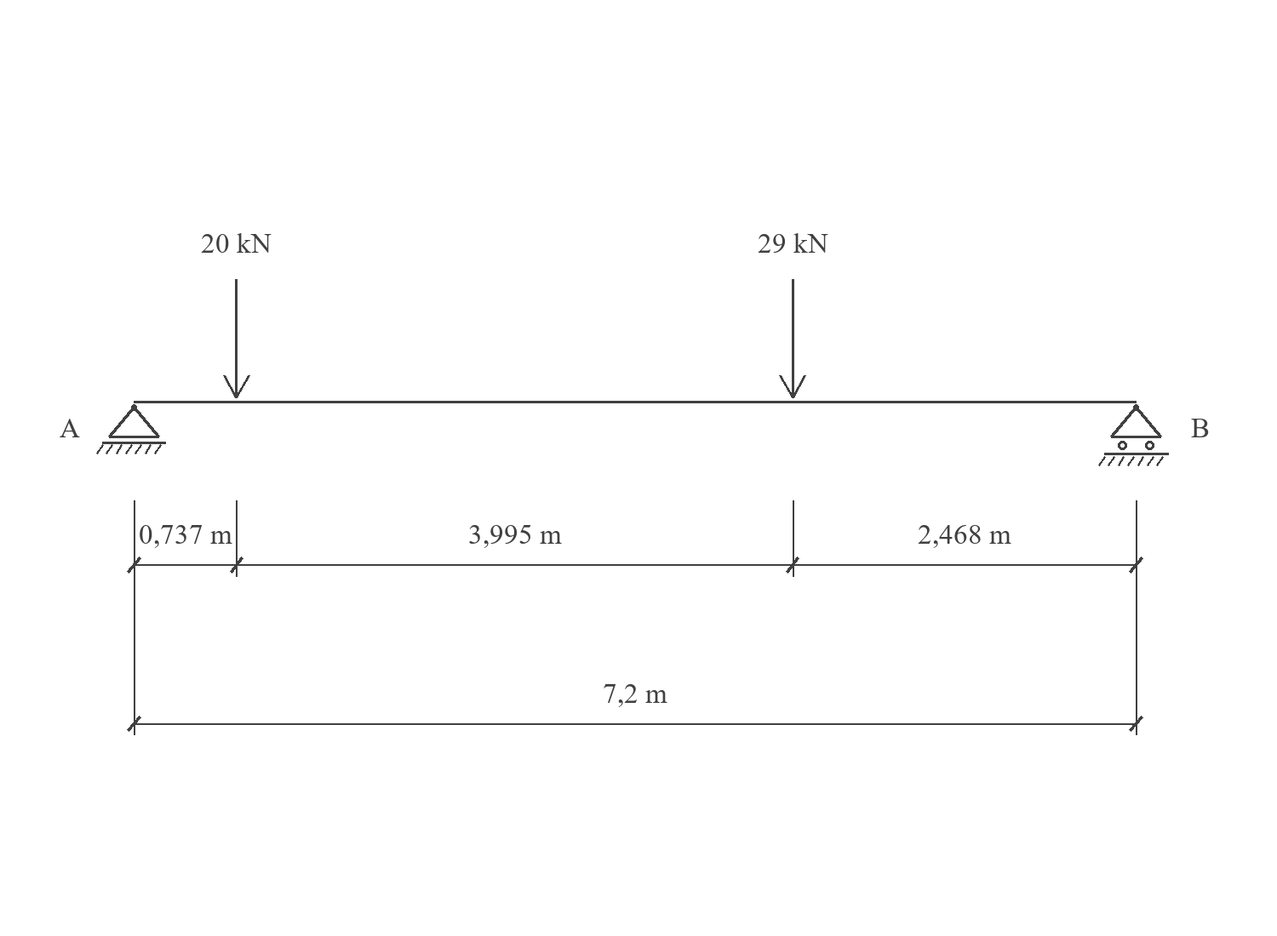pin_support: (96, 404, 166, 454)
point_load: (223, 279, 250, 398), (779, 279, 806, 398)
roller_support: (1098, 404, 1169, 466)
